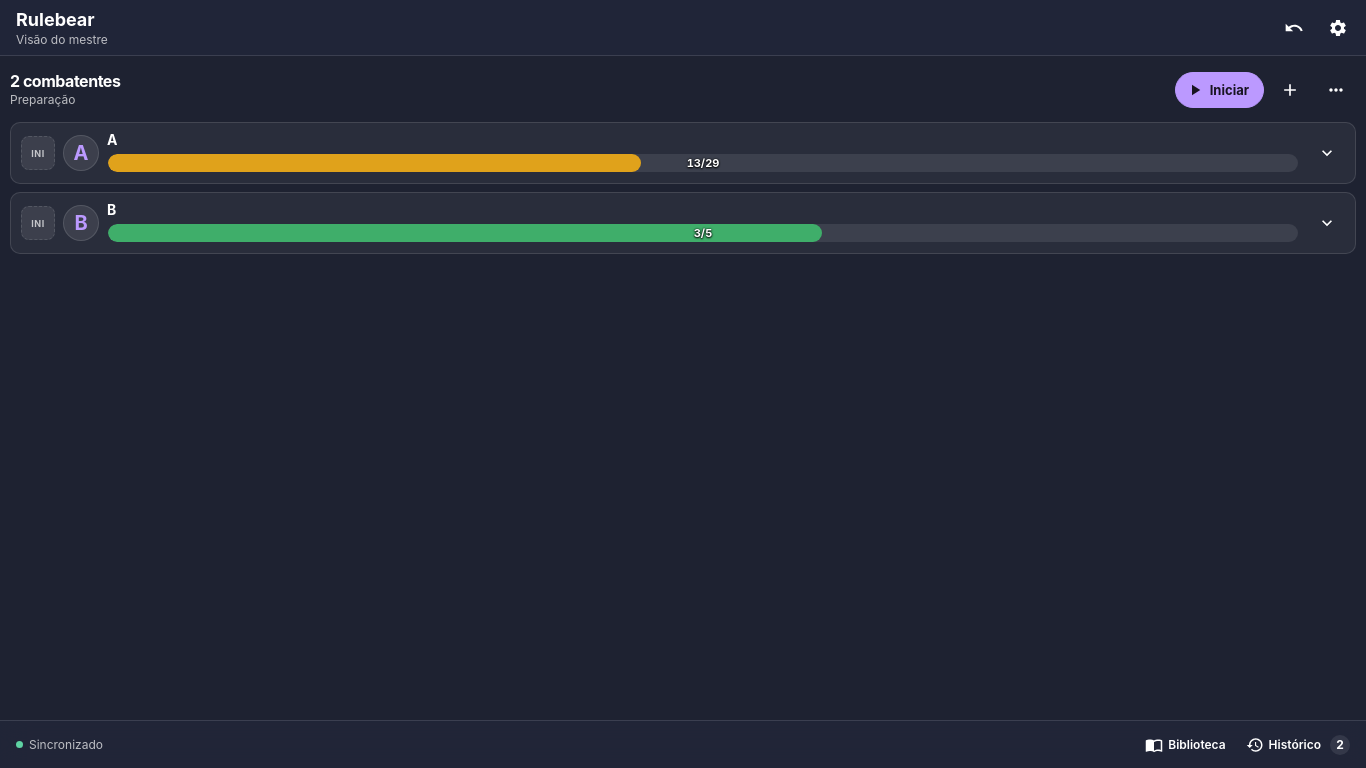
painel de jogadores › cura exige número inteiro e dano avançado continua disponível
Expected: the heading "2 combatentes" is shown, [10,71,120,91]
Click the button named "Ações de HP: 13/29" at (703, 163), box [107,151,1299,175]
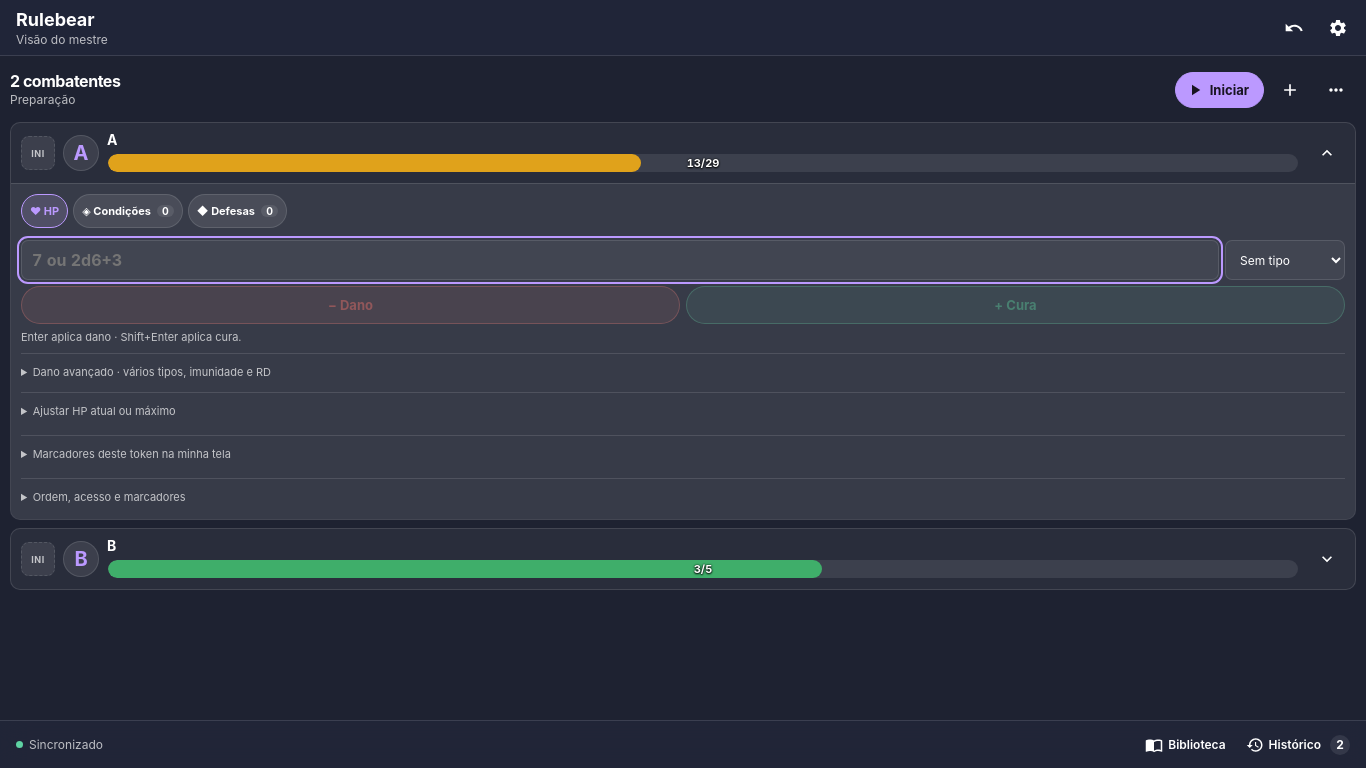
Type "1d6" into the field named "Valor de HP" at (620, 260), box [21,240,1219,280]
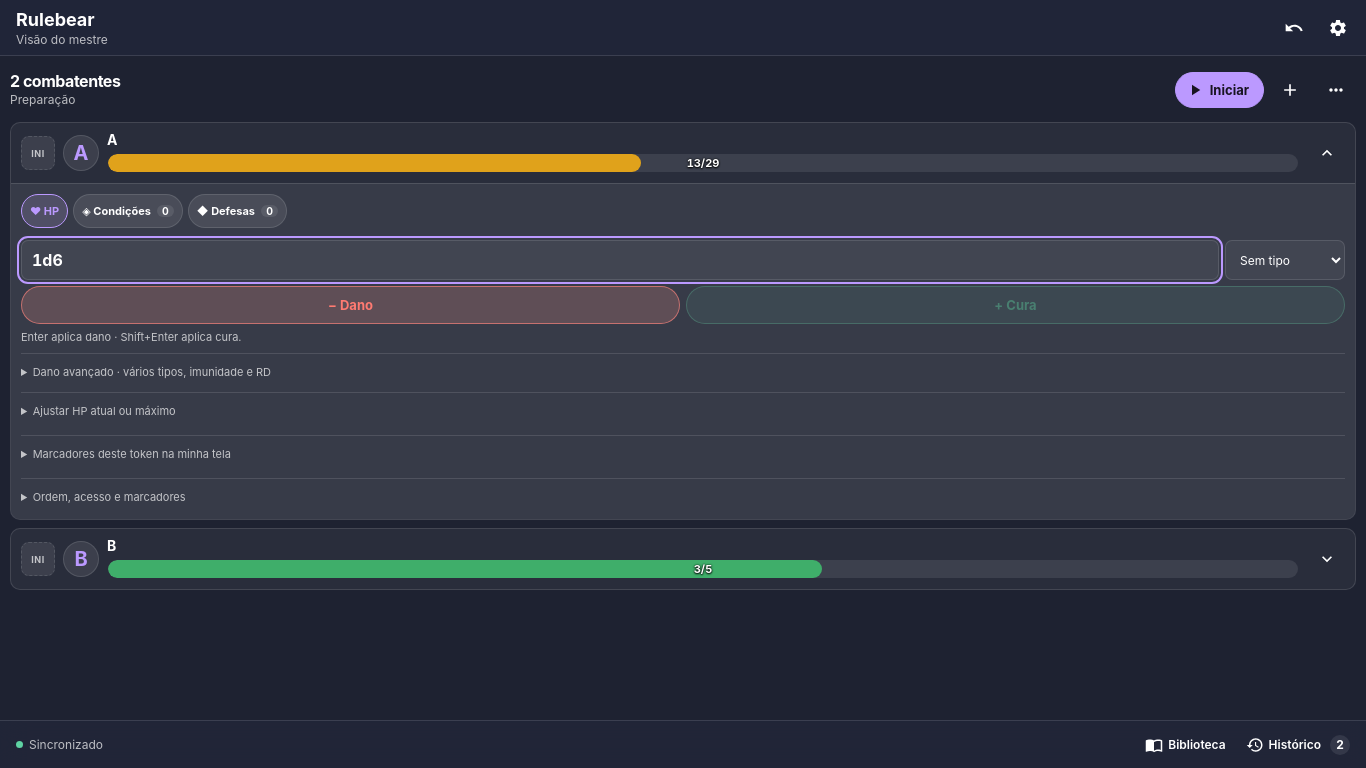
Expected: the button with aria-label "Aplicar cura" is disabled, [686,286,1345,324]
Expected: the heading "Dano avançado · vários tipos, imunidade e RD" is shown, [33,365,271,379]
Expected: the button with aria-label "Aplicar dano" is enabled, [21,286,680,324]
